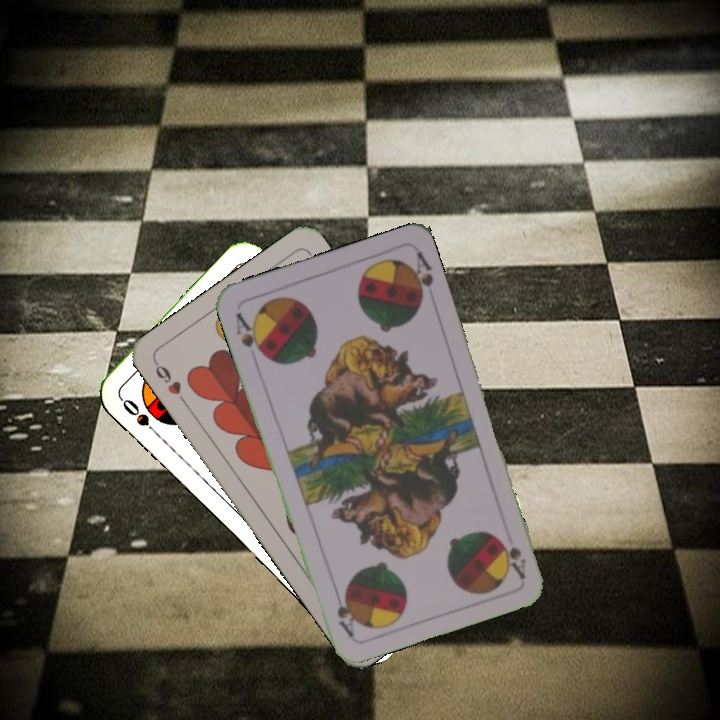H9: (150, 357, 190, 408)
SA: (231, 308, 268, 360), (496, 534, 529, 581)
SO: (117, 394, 163, 441)
